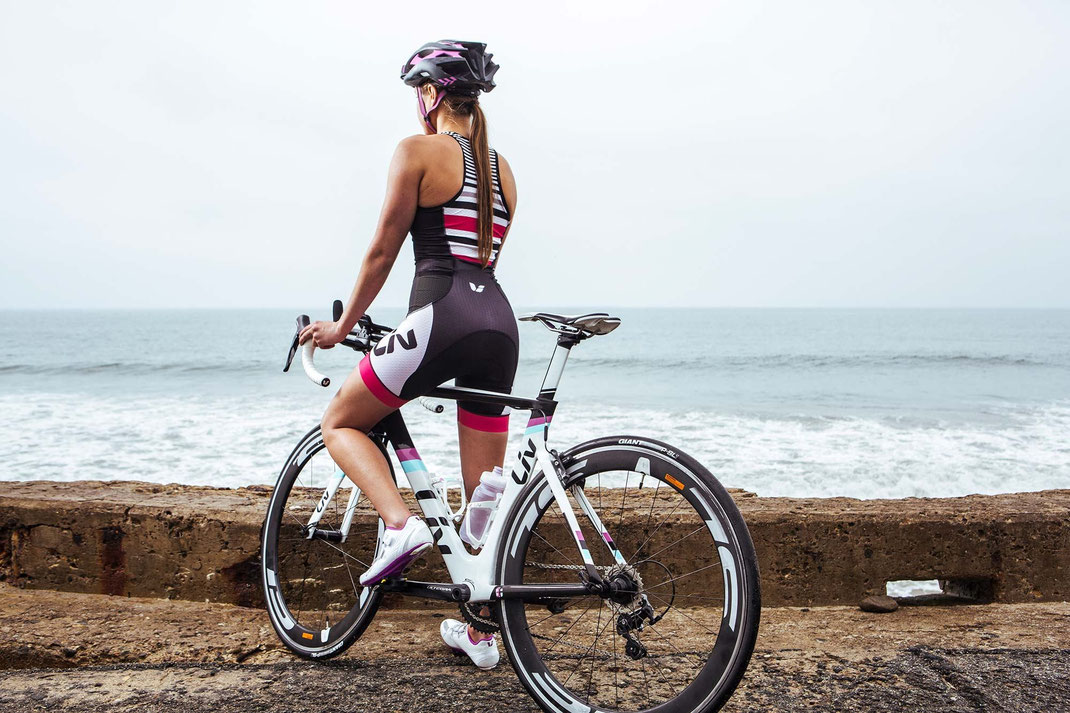helmet: (392, 38, 500, 91)
